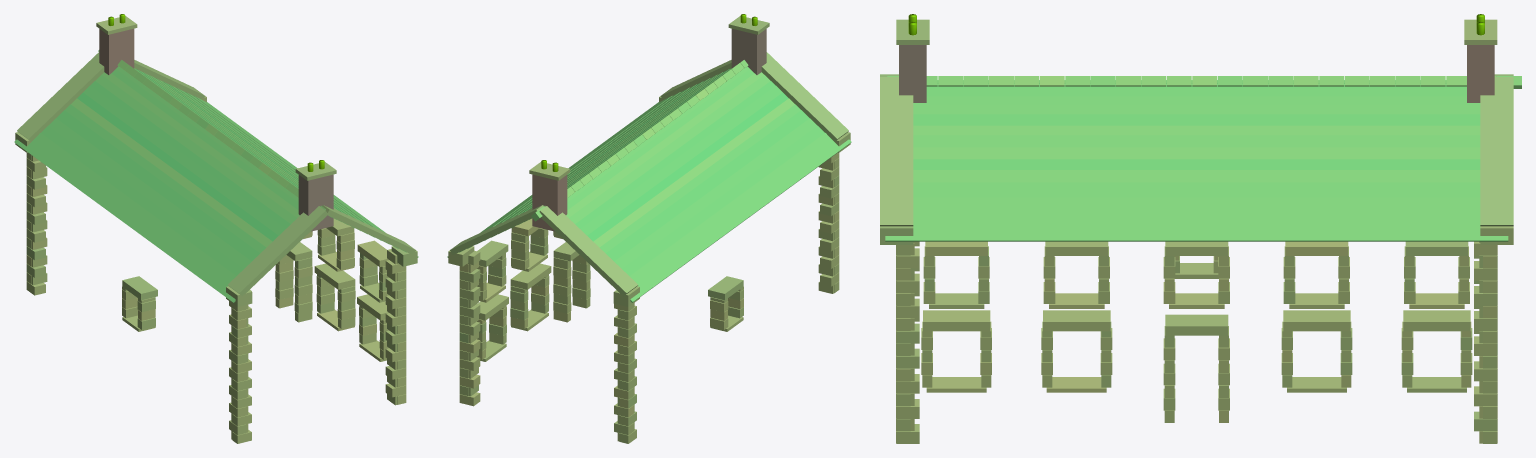
Rendered from SM_Bld_153_Stone.glb.
3 renders of one model, left to right at view 1: azimuth 30°, elevation 25°; view 2: azimuth 150°, elevation 25°; view 3: azimuth 270°, elevation 25°, orthographic. The views are drawn at different scales.
Parts seen in each view (by area): view 1: SM_Bld_153_Stone; view 2: SM_Bld_153_Stone; view 3: SM_Bld_153_Stone.
Part boxes in pixels (left/top/right/bottom): SM_Bld_153_Stone: left=14, top=14, right=418, bottom=443; SM_Bld_153_Stone: left=447, top=14, right=851, bottom=443; SM_Bld_153_Stone: left=880, top=14, right=1521, bottom=443.
Size of the model in its own units: 6.61 by 8.73 by 13.9.
